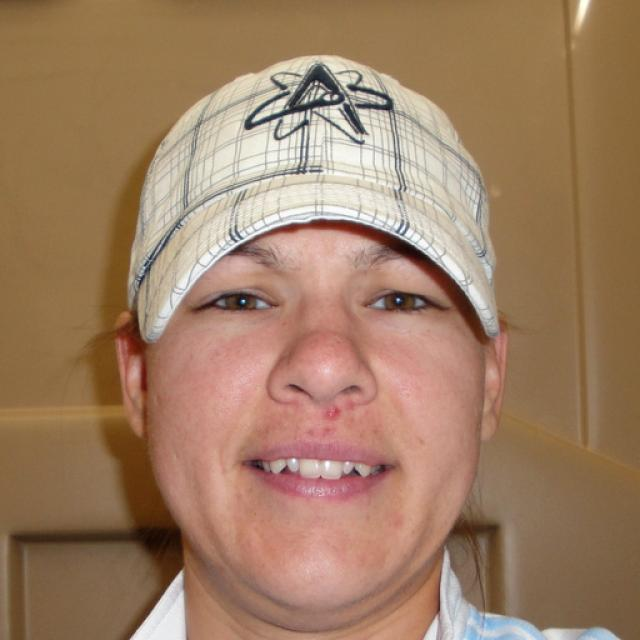happy: (146, 152, 482, 610)
